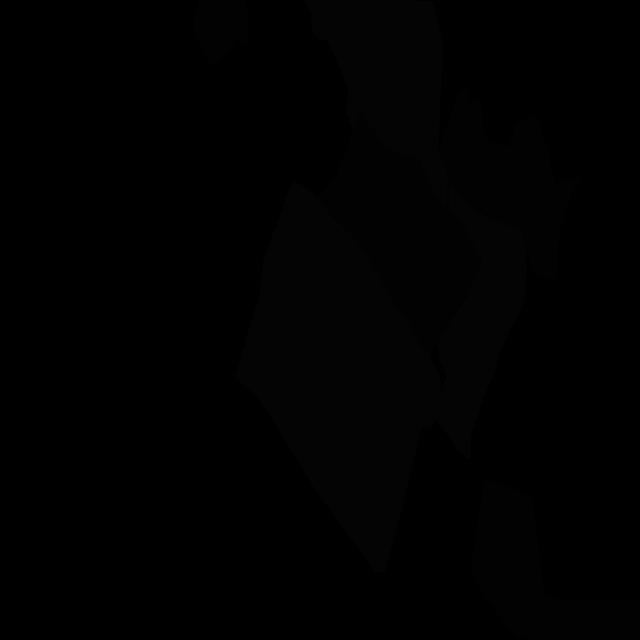cardboard: (316, 112, 483, 356), (438, 86, 582, 280), (470, 479, 640, 640), (193, 0, 248, 65)
soft_plastic: (235, 181, 442, 573), (304, 0, 448, 208), (433, 177, 526, 458)
